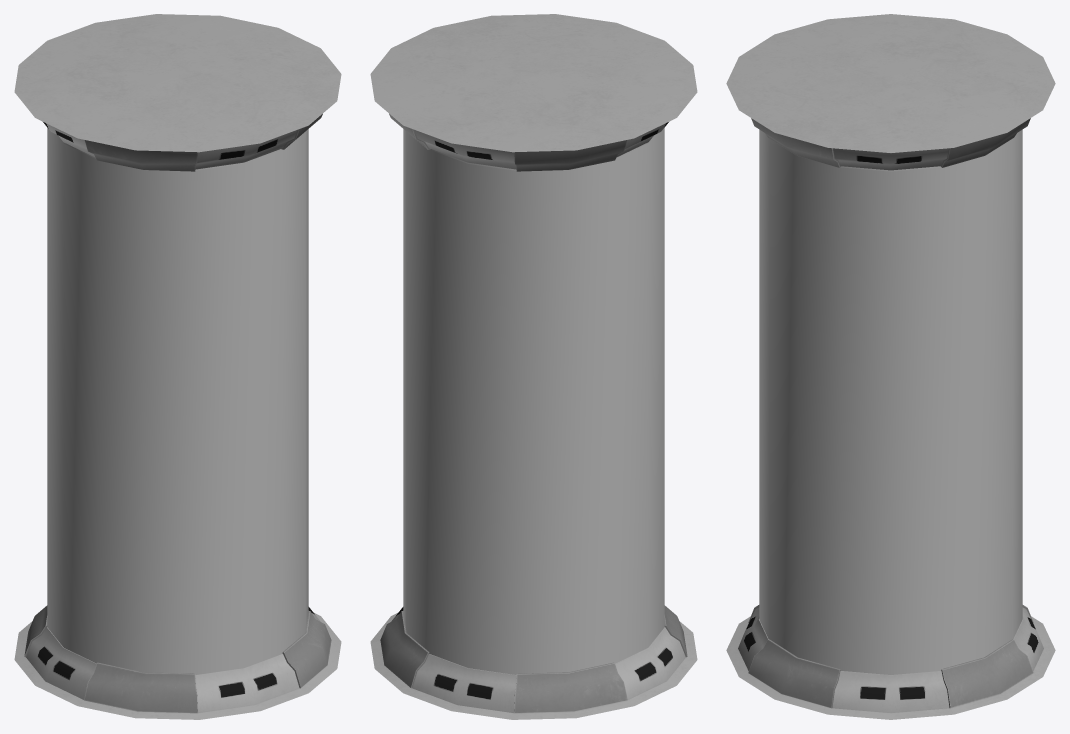
The model's file is Chamber.fbx.
The picture shows the model from 3 angles, left to right: view 1: azimuth 30°, elevation 25°; view 2: azimuth 150°, elevation 25°; view 3: azimuth 270°, elevation 25°; orthographic projection.
Parts seen in each view (by area): view 1: Glass, Base; view 2: Glass, Base; view 3: Glass, Base.
Boxes of the visible parts, x1,y1,x2,y2 form: Glass: (47,128,308,674); Base: (14,14,341,719); Glass: (403,128,664,674); Base: (370,14,697,719); Glass: (759,129,1022,674); Base: (726,14,1055,719).
Size of the model in its own units: 131 by 255 by 131.
